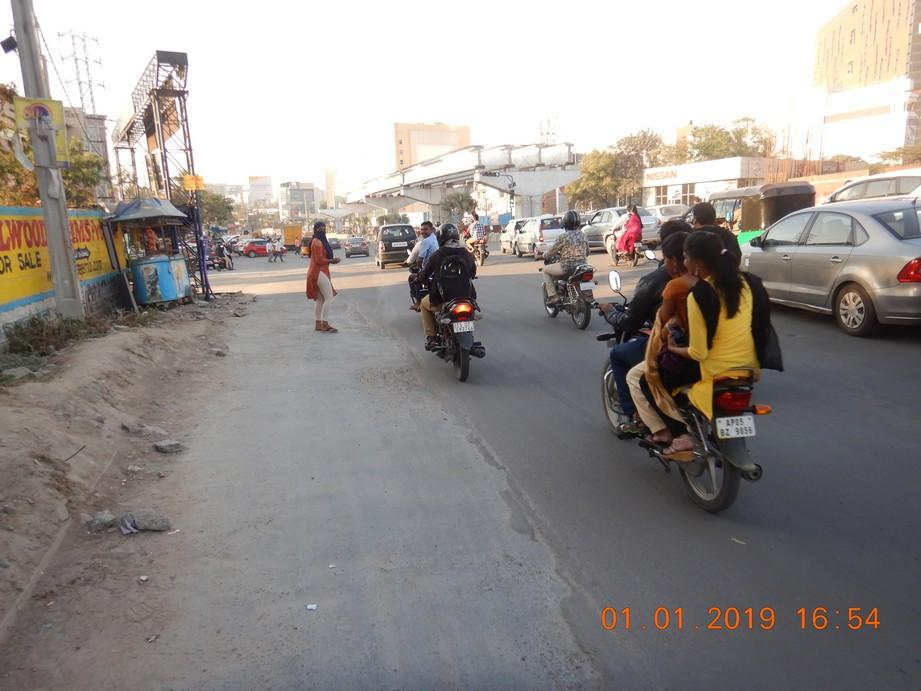plate: (716, 414, 756, 438), (452, 319, 475, 334)
